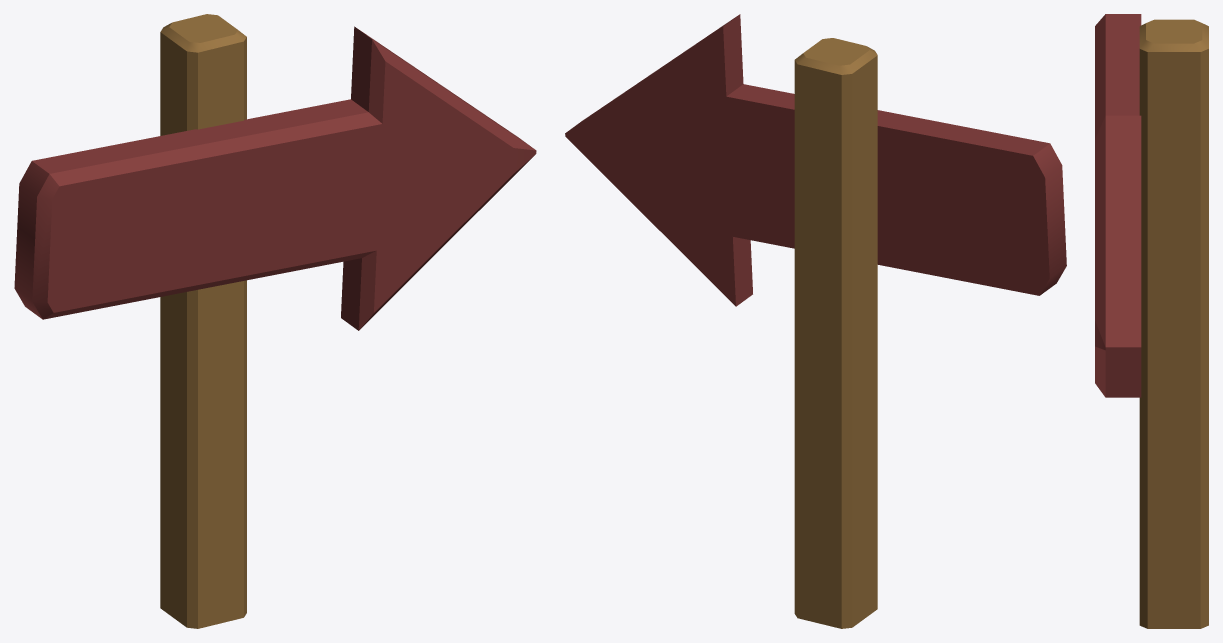
File: arrowsign.glb
The picture shows the model from 3 angles, left to right: view 1: azimuth 30°, elevation 25°; view 2: azimuth 150°, elevation 25°; view 3: azimuth 270°, elevation 25°; orthographic projection. The views are drawn at different scales.
Parts seen in each view (by area): view 1: Arrow_Side; view 2: Arrow_Side; view 3: Arrow_Side.
Part boxes in pixels (x1,y1,x2,y2): Arrow_Side: (14,14,536,628); Arrow_Side: (565,14,1066,628); Arrow_Side: (1095,14,1208,628).
Size of the model in its own units: 1.86 by 2.05 by 0.3633.
